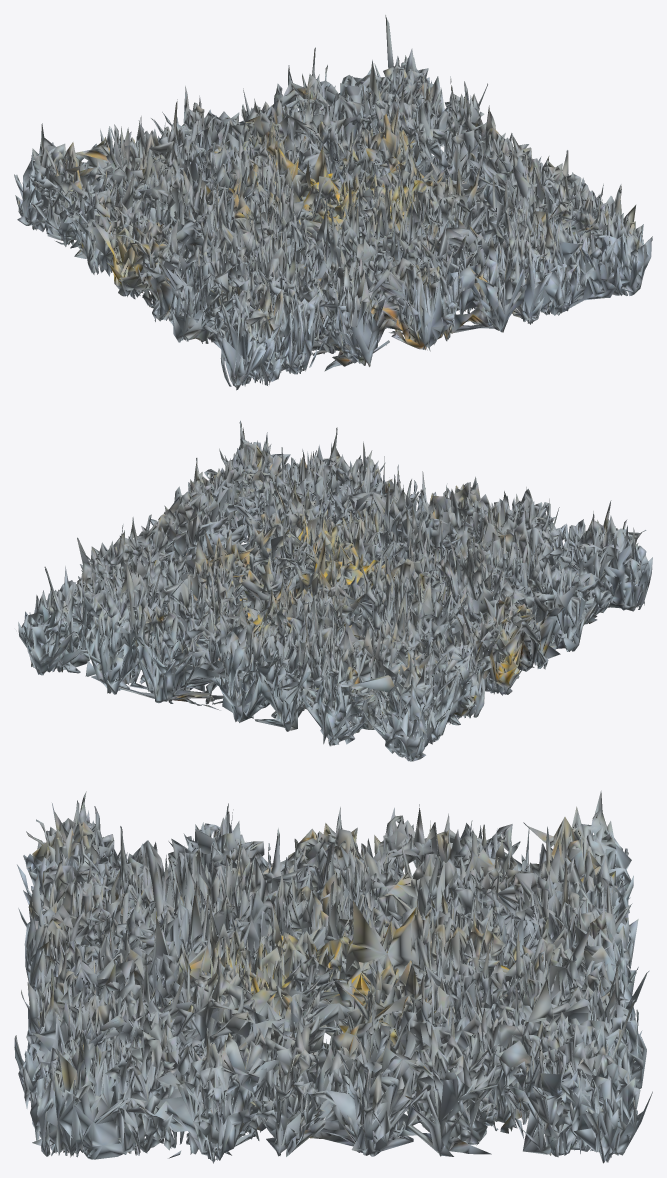
The model's file is Meshy_AI_Verdant_Symmetry_1115233402_texture.glb.
The picture shows the model from 3 angles, top to bottom: view 1: azimuth 30°, elevation 25°; view 2: azimuth 150°, elevation 25°; view 3: azimuth 270°, elevation 25°; orthographic projection. The views are drawn at different scales.
Size of the model in its own units: 1.93 by 0.5145 by 1.95.
Materials: 1 (1 with a texture image).
